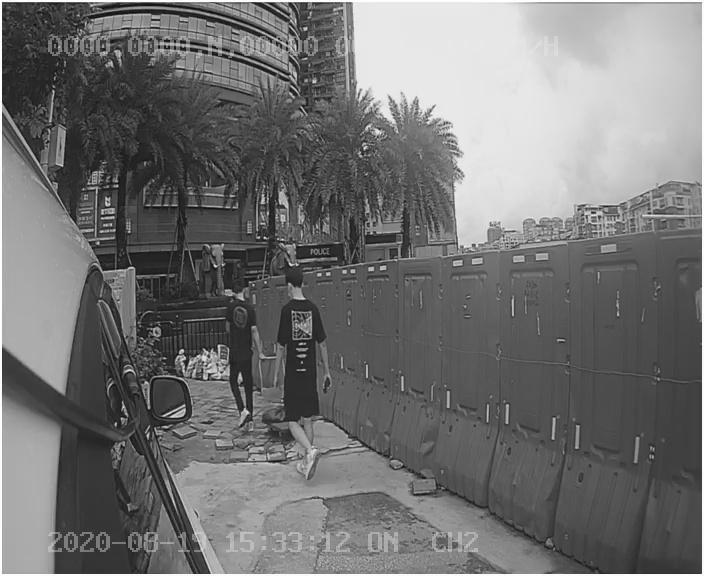person: (261, 270, 350, 485)
